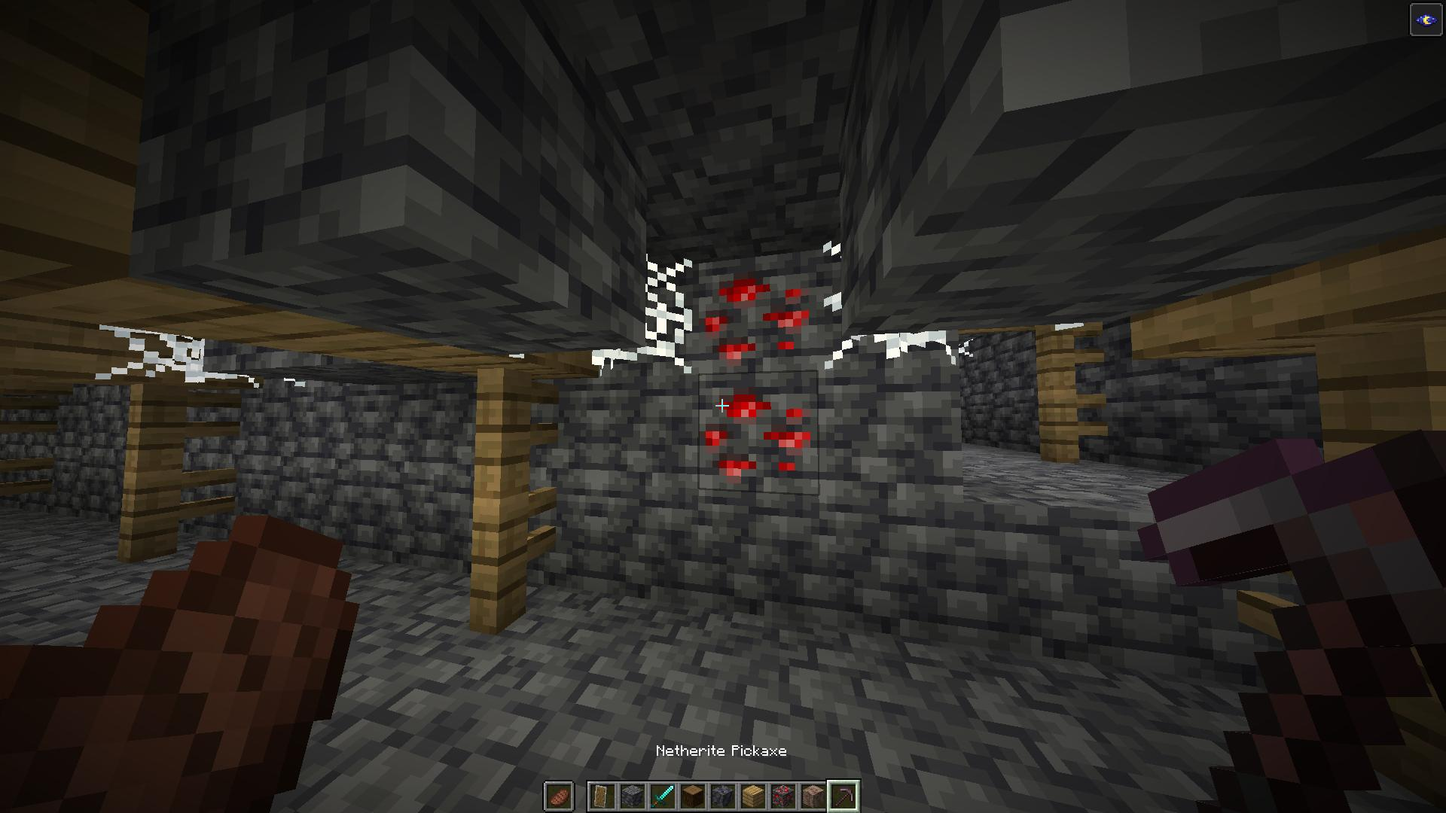redstone ore: (696, 369, 818, 496), (696, 248, 818, 372)
